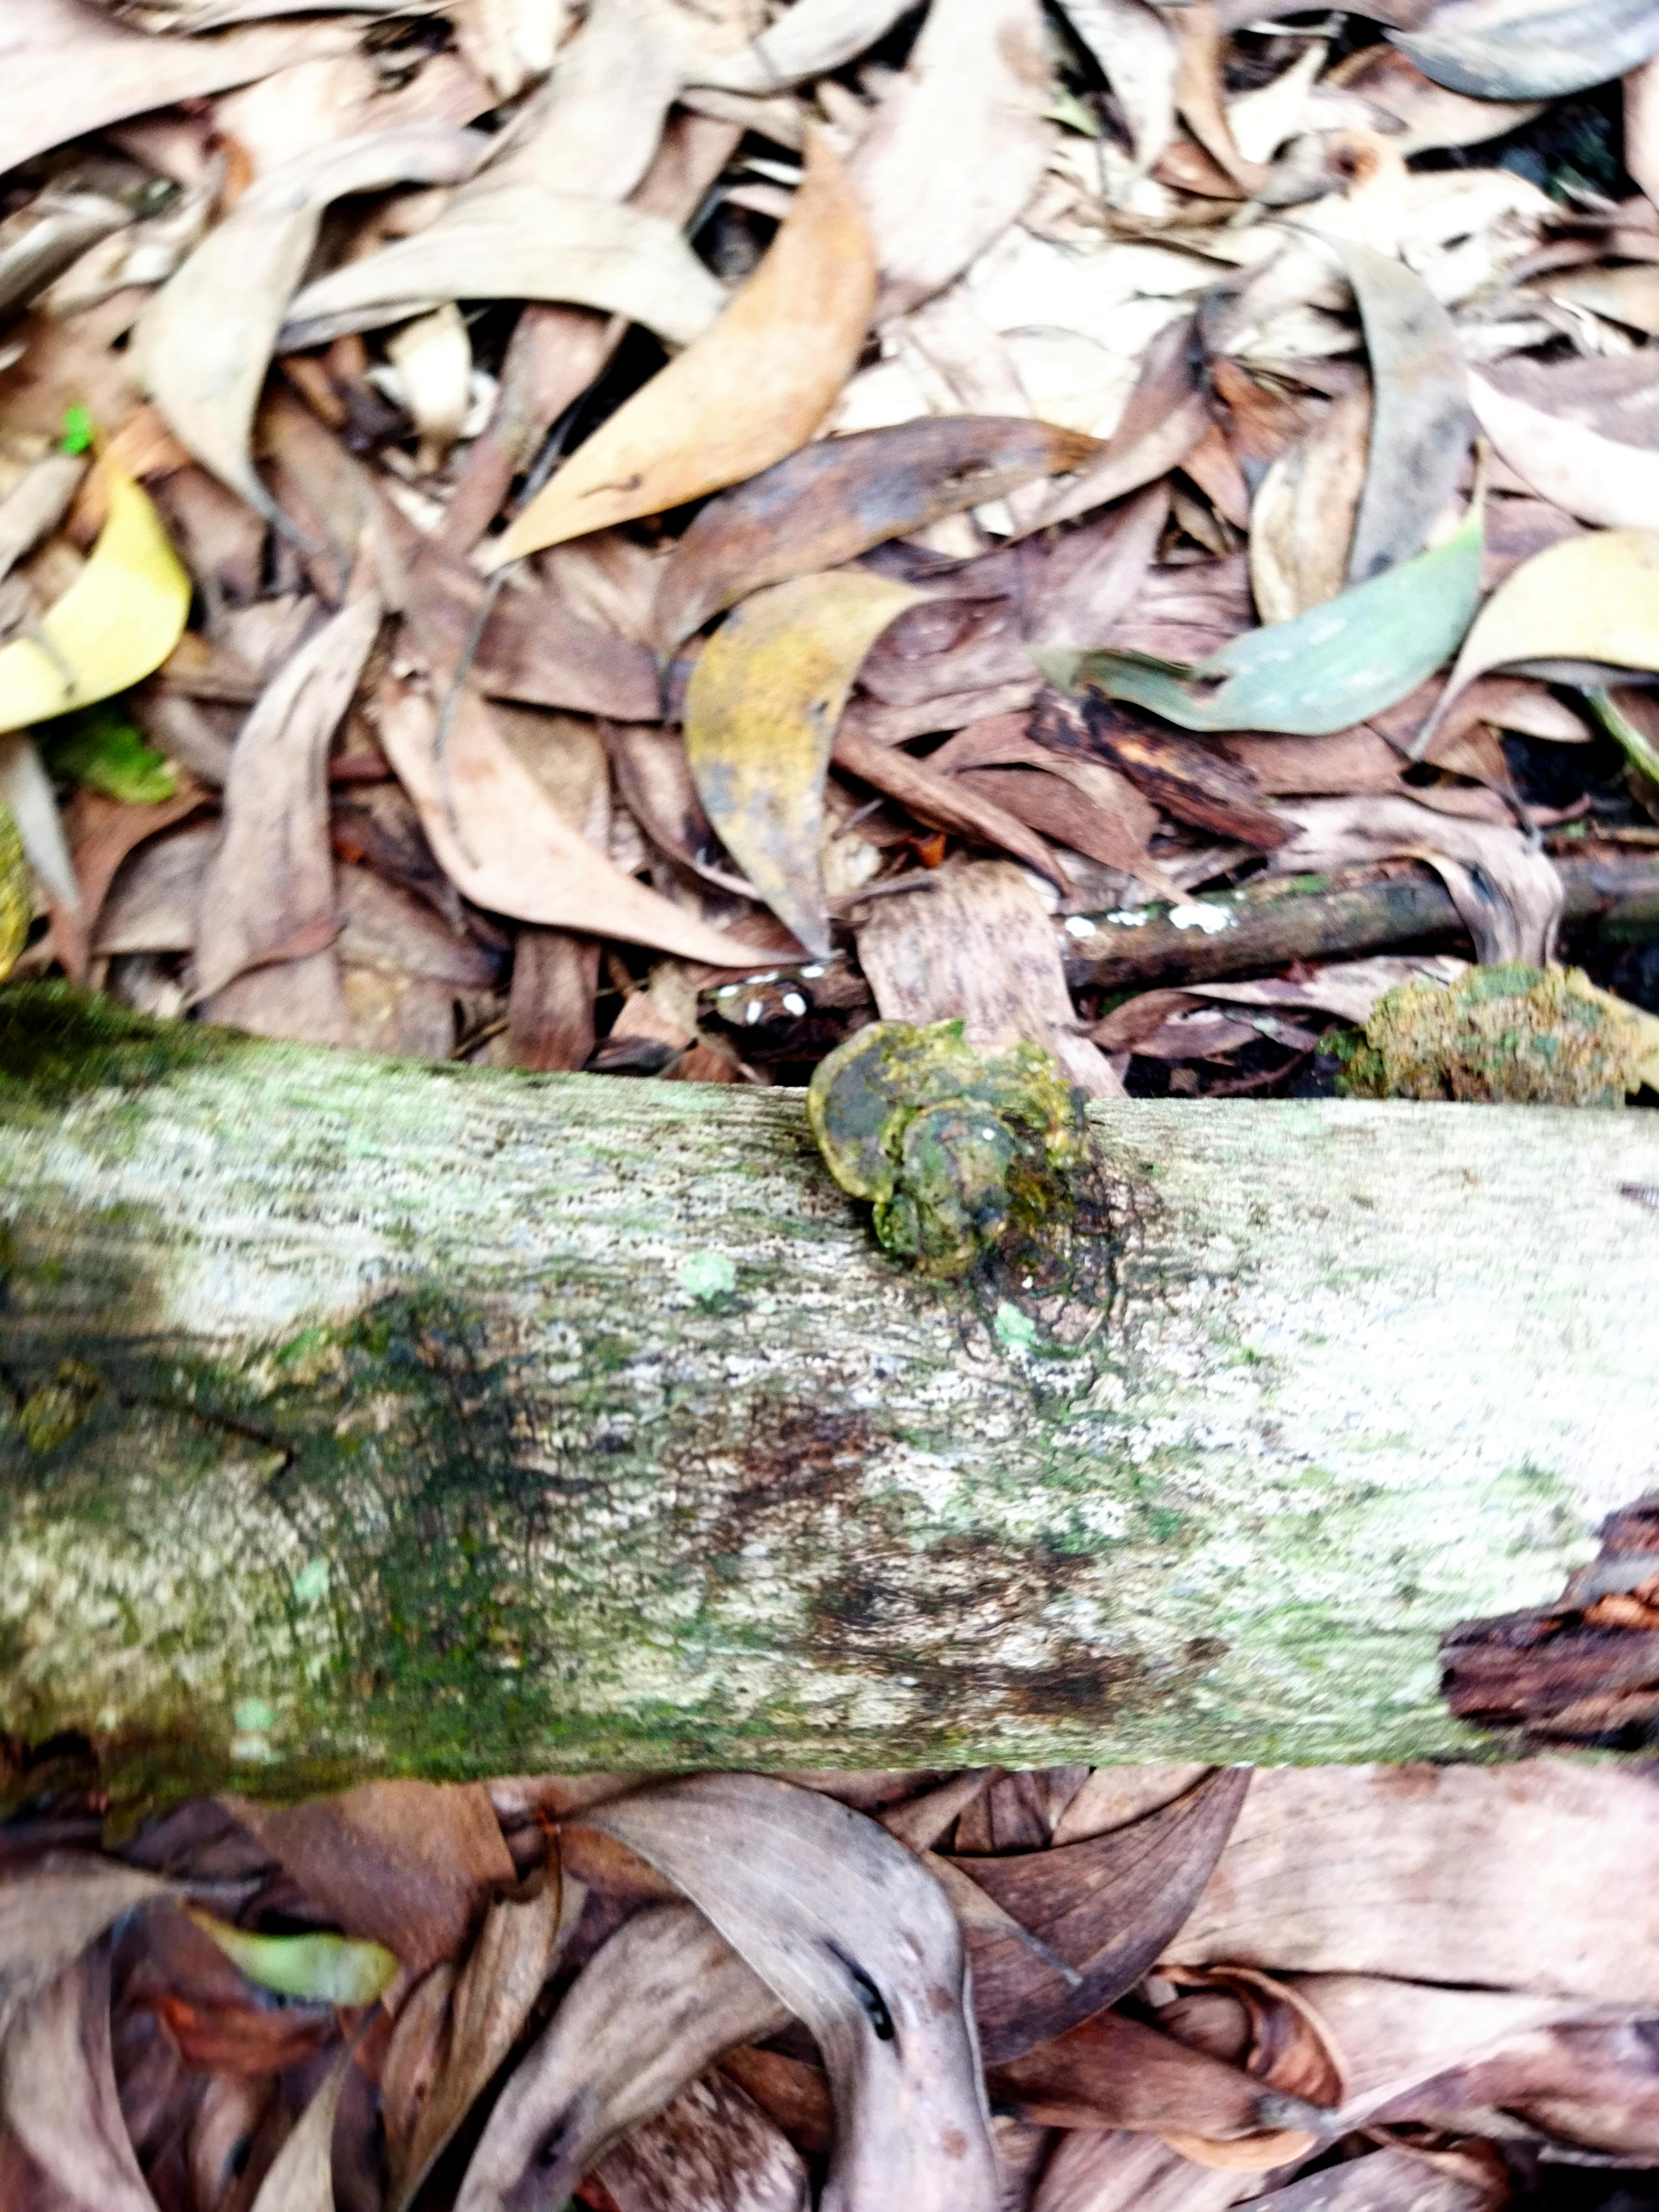Ganoderma - Fruit Body: (798, 1007, 1089, 1244)
